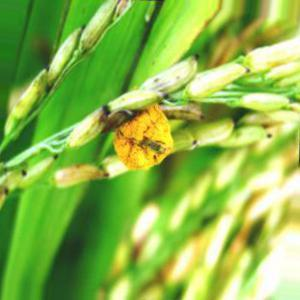False Smut: (111, 100, 180, 178)
